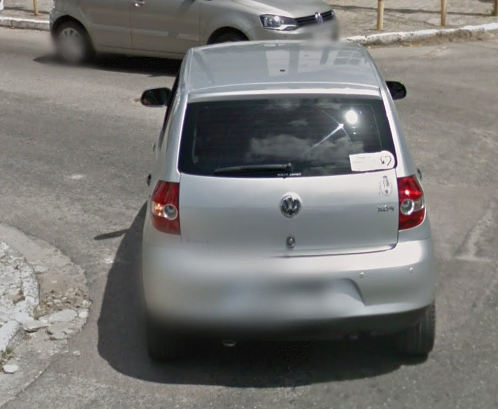car: (129, 35, 439, 368)
